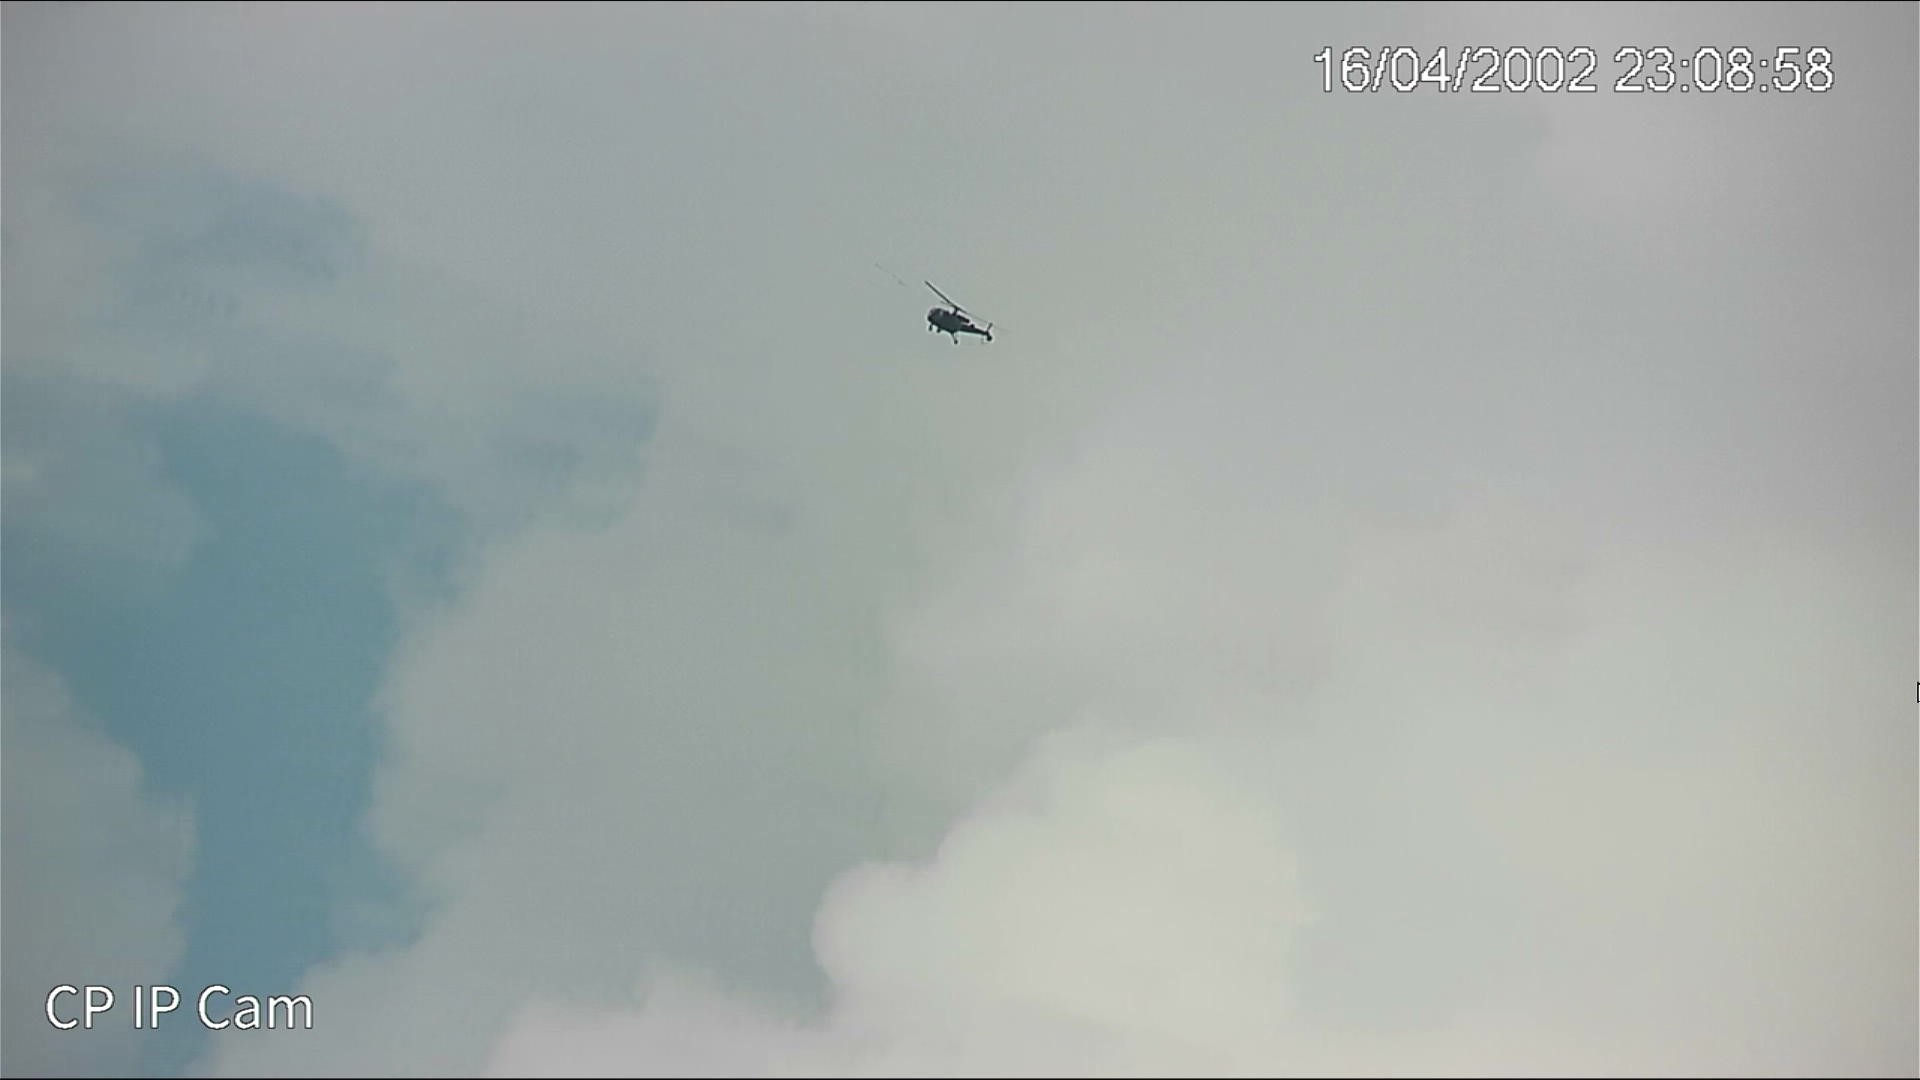SU_30: (922, 302, 996, 352)
